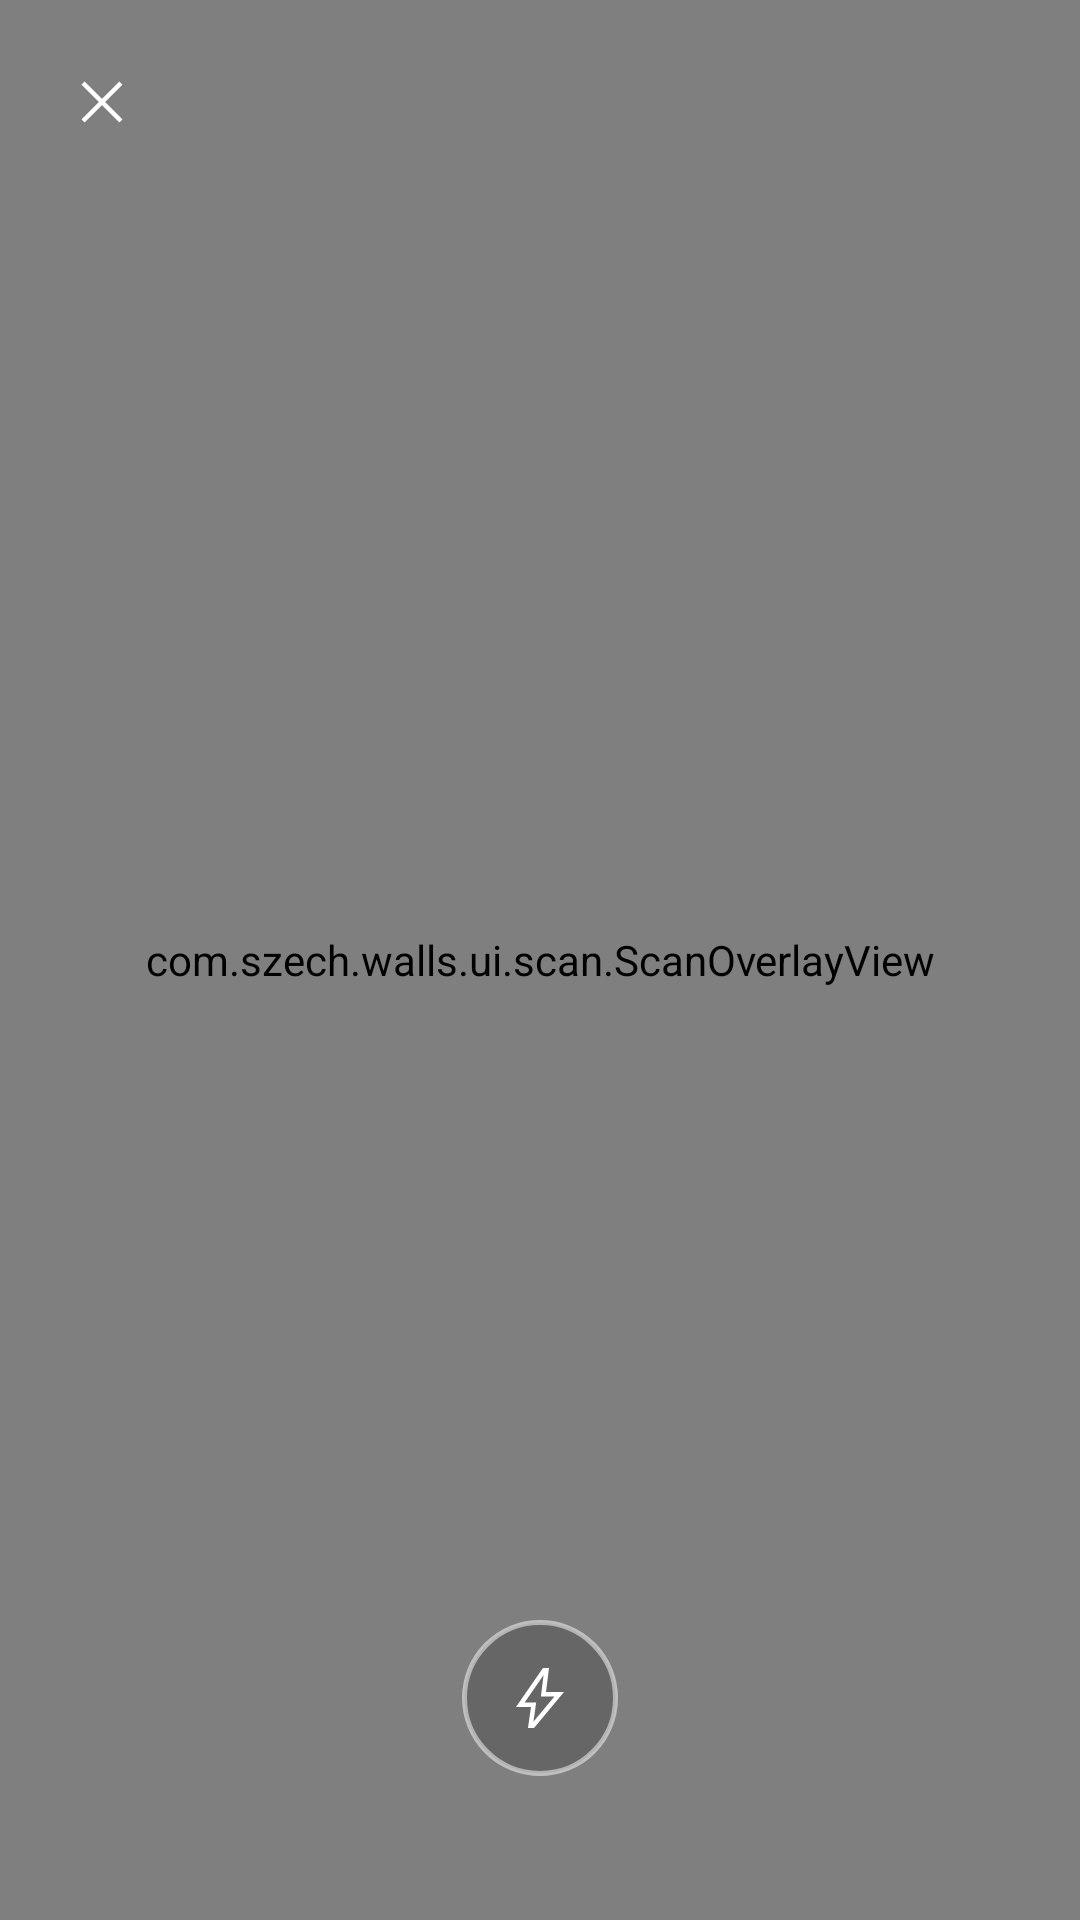

Locate icon controls on the screen. Image size 1080px×1920px, boxes as (x1, y1, x2, y2).
关闭扫码: (81, 81, 123, 123)
手电筒: (462, 1620, 618, 1776)
